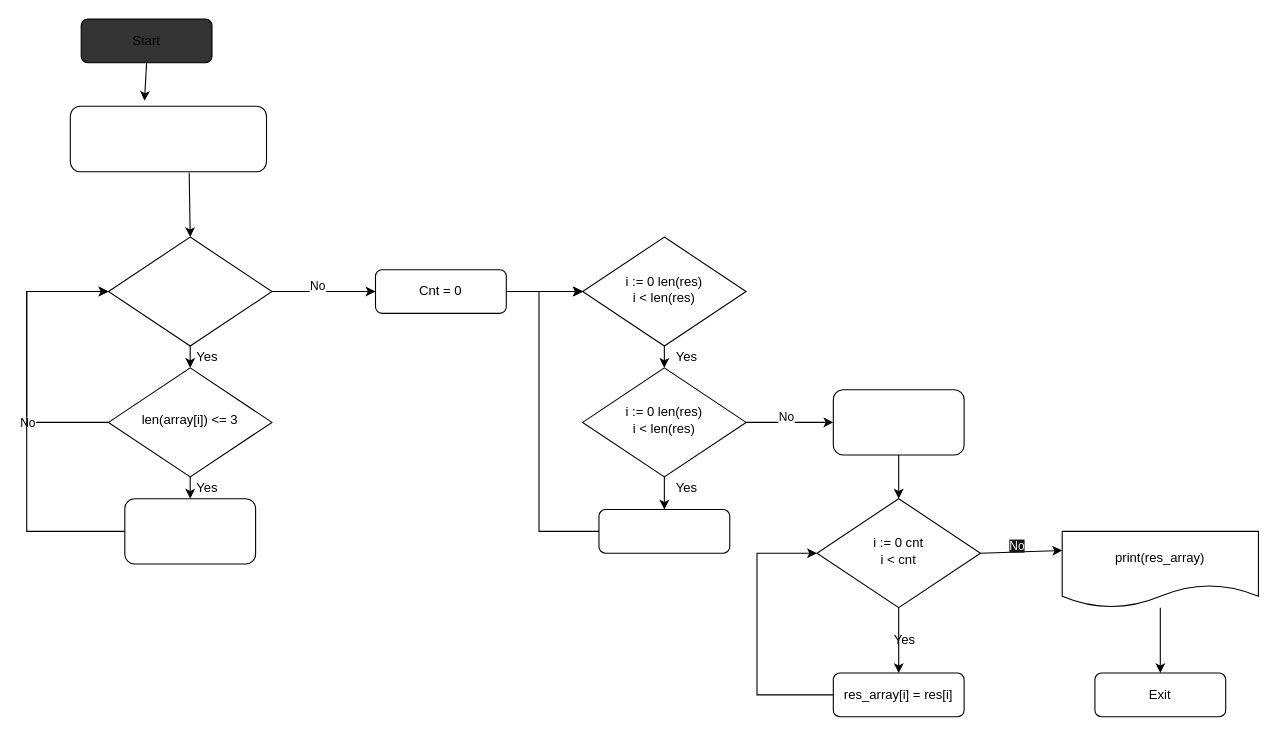
This 1277x736 diagram has some shape labels left out. Each missing label, with the centre of its shape:
array = ["Russia", "Denmark", "Kazan"] j = 0 res = [0] * len(array): (x=168, y=138)
Cnt+= 1: (x=664, y=530)
i := 0 len(array) i < len (array): (x=189, y=291)
res[j] = arr[i] j += 1: (x=190, y=531)
res_array =[0] * cnt: (x=898, y=422)
